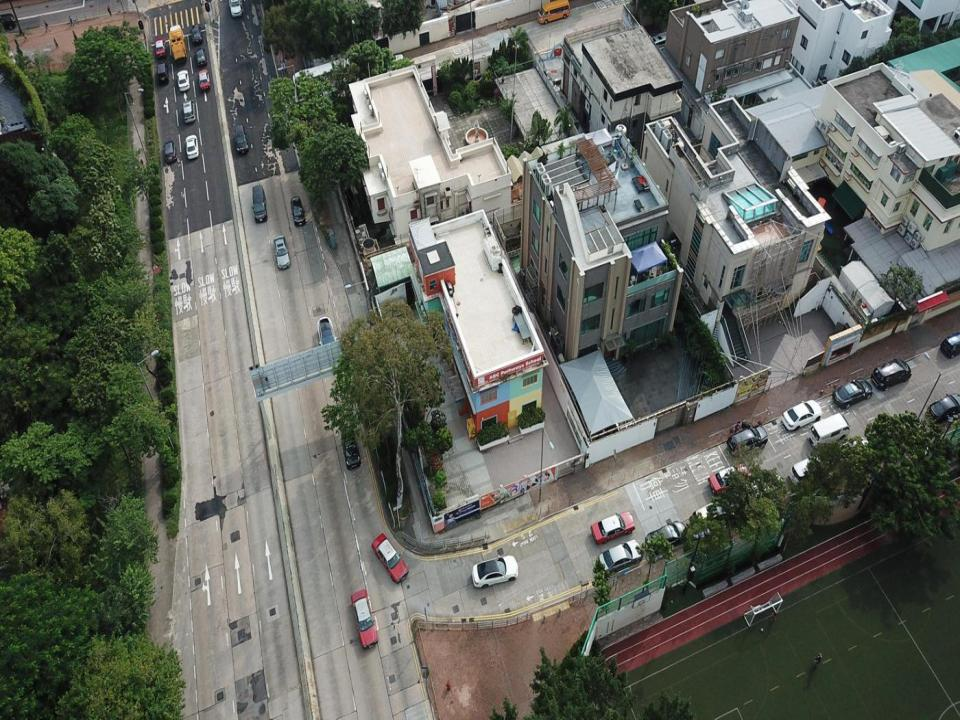car: (370, 533, 409, 584), (351, 588, 379, 649), (472, 554, 520, 588), (590, 510, 636, 542), (596, 541, 640, 574), (781, 400, 822, 430), (708, 461, 750, 490), (646, 522, 686, 552), (925, 392, 960, 424), (832, 379, 873, 406), (338, 425, 361, 470), (318, 315, 336, 353), (272, 235, 290, 269), (186, 134, 199, 158), (190, 24, 204, 46), (227, 0, 244, 17), (153, 34, 164, 57), (198, 68, 209, 90), (195, 48, 206, 70), (177, 70, 188, 90)
van: (693, 497, 741, 532), (807, 413, 850, 448), (726, 426, 767, 458), (872, 358, 912, 389), (789, 457, 827, 487), (250, 185, 266, 224), (939, 329, 960, 357), (290, 195, 307, 228), (234, 122, 250, 152), (156, 60, 168, 84), (182, 100, 194, 124), (163, 142, 175, 160)
